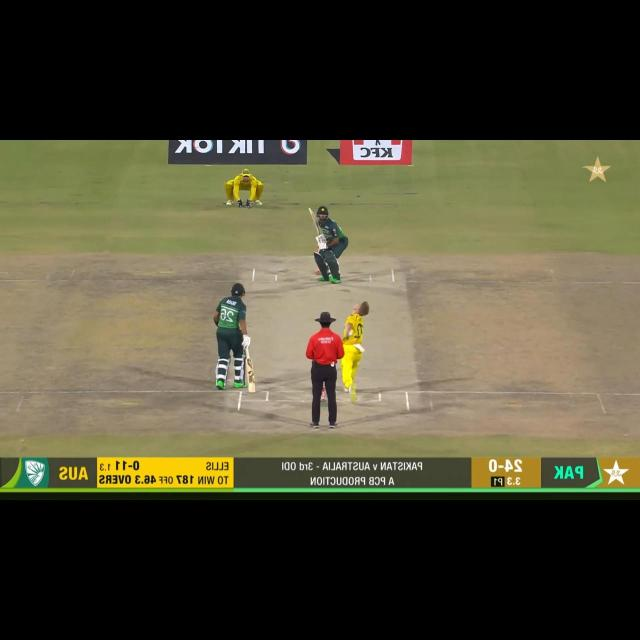bat: (306, 206, 322, 236), (245, 359, 258, 394)
toe: (246, 388, 257, 394), (306, 206, 314, 214)
